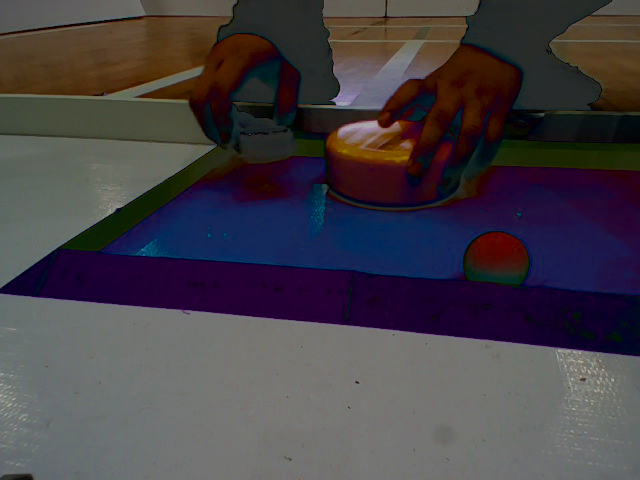kuang: (2, 129, 640, 360)
red: (460, 230, 529, 289)
yellow: (324, 115, 472, 215)
